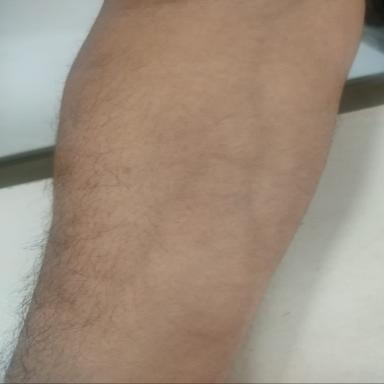normal skin: (6, 0, 362, 383)
